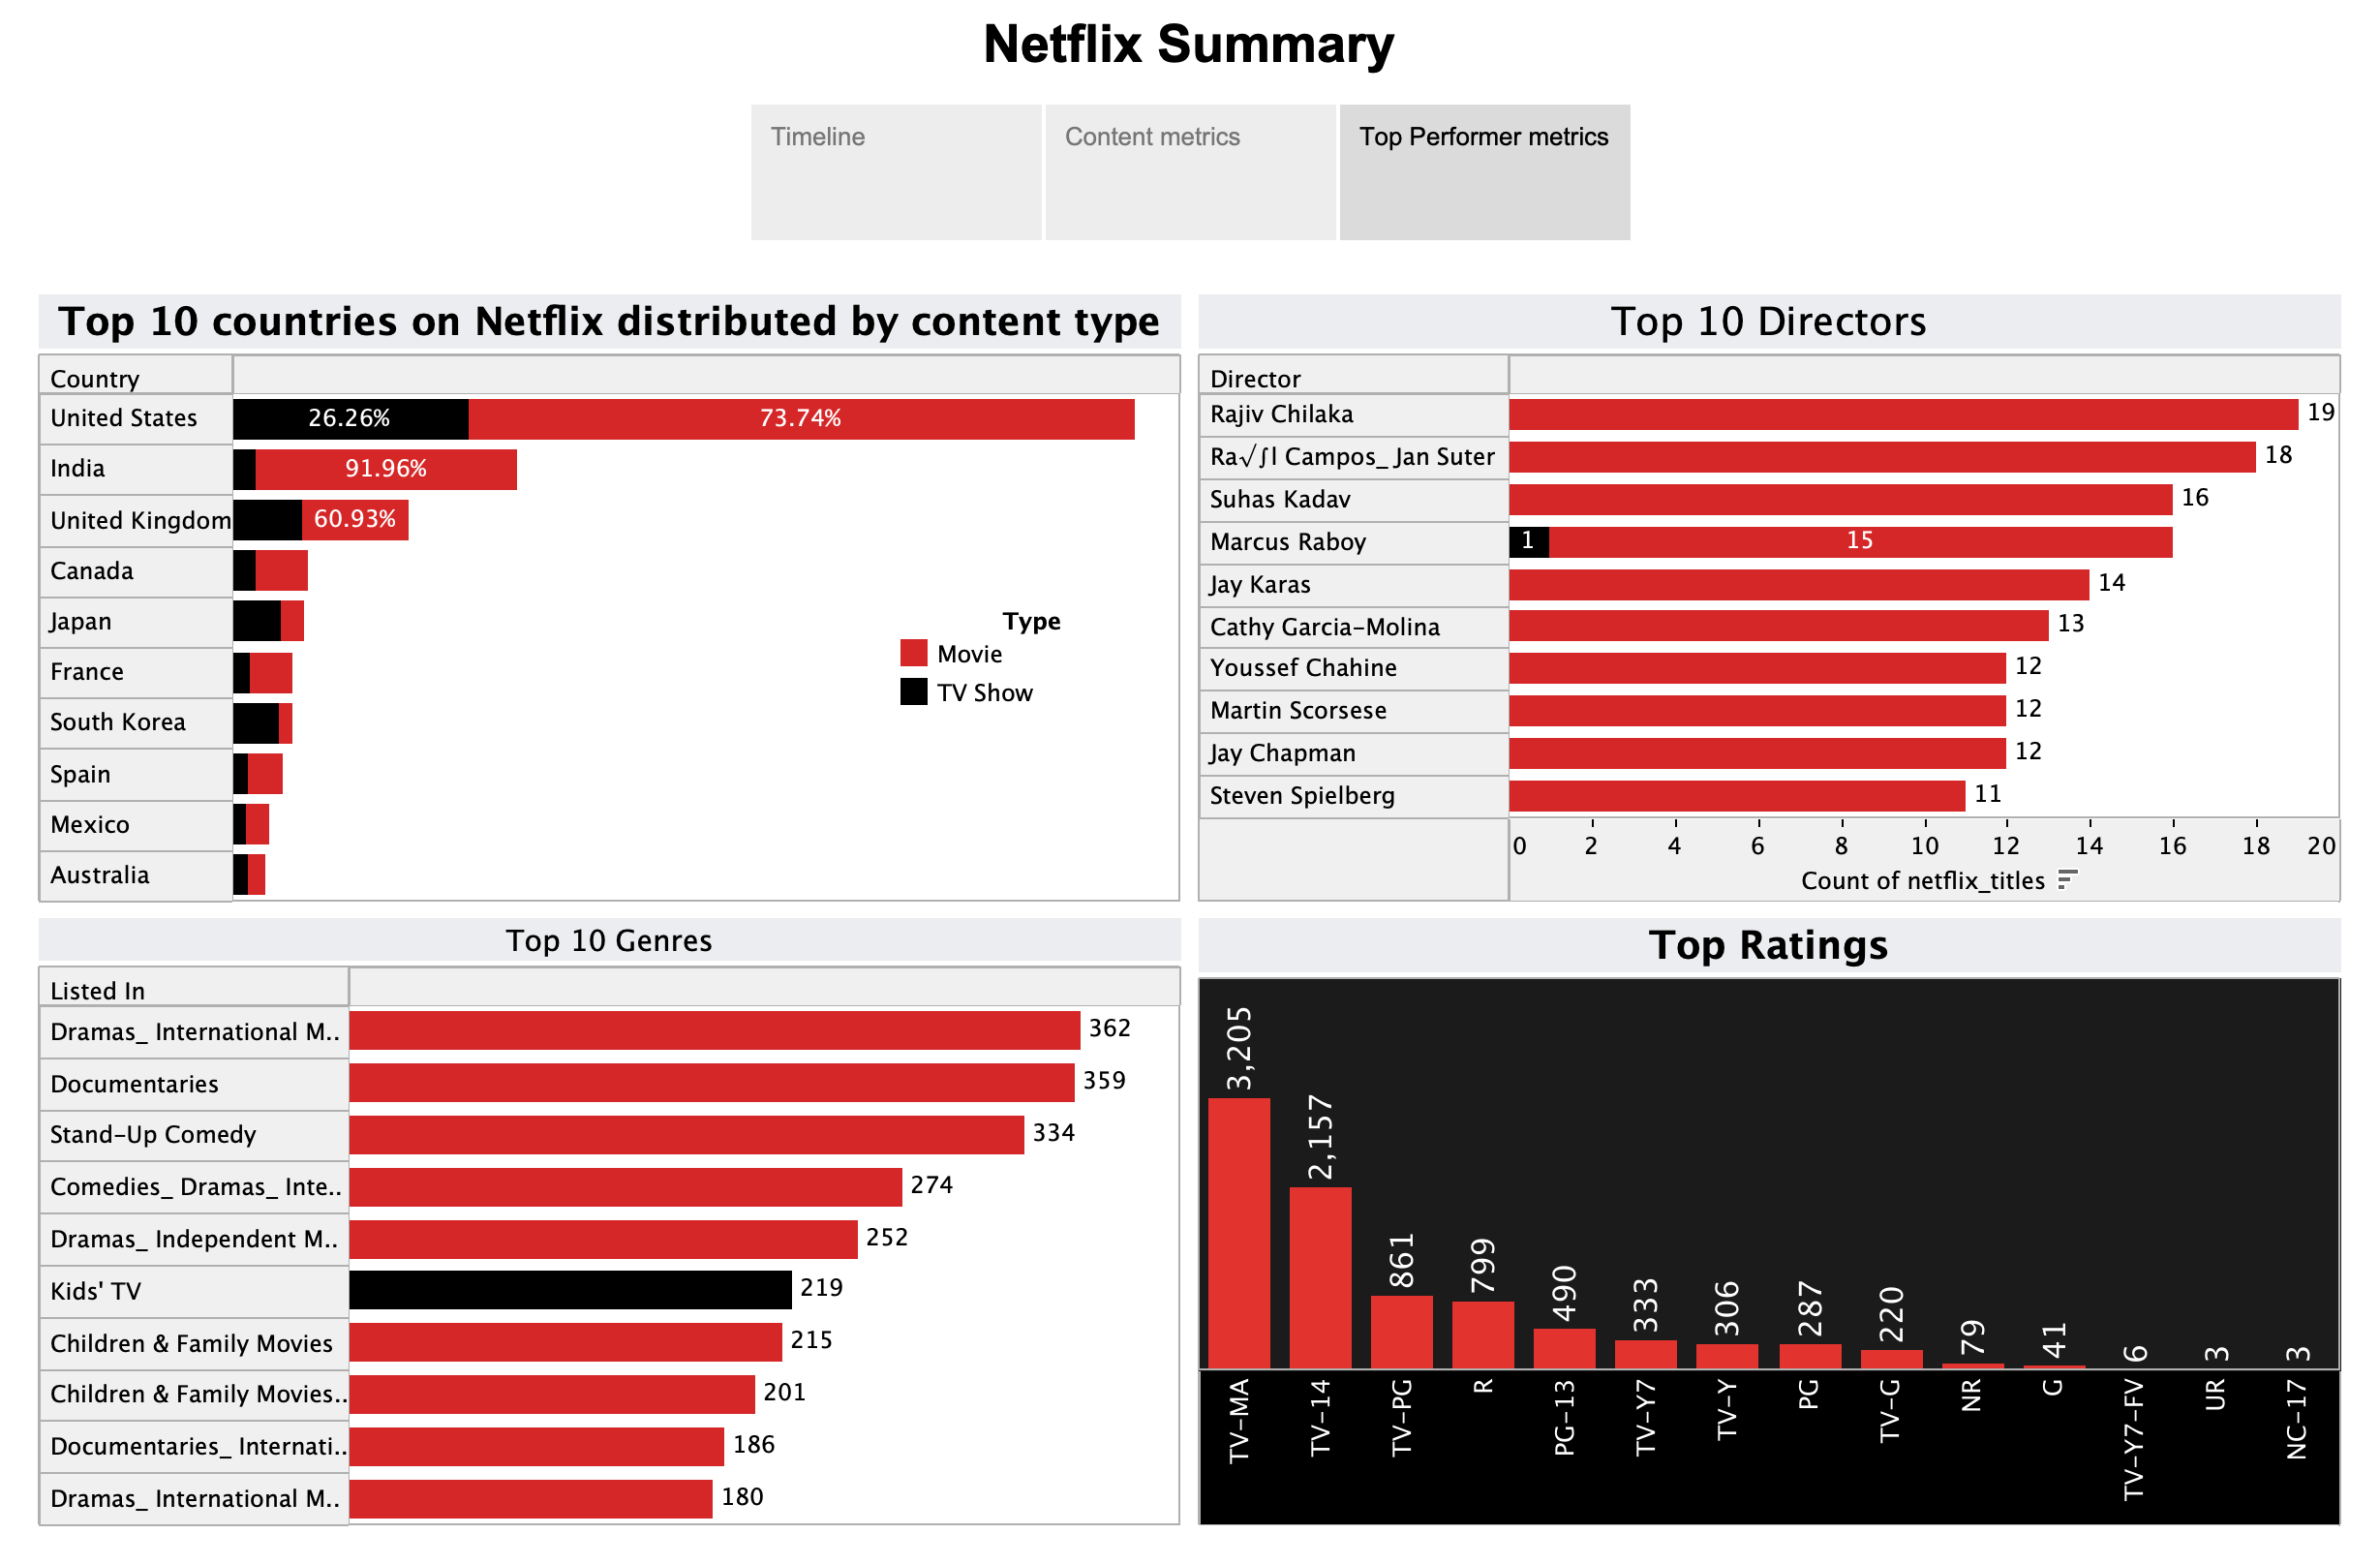

The dashboard page shown, as its layout file describes it:
{"tool":"tableau","page":{"name":"Top Performers","canvas":[1000,1000],"units":"permille","ordinal":2},"visuals":[{"type":"worksheet","box":[0,0,1000,1000]},{"type":"worksheet","param":"horz","box":[6.5,9.9,987,980.2]},{"type":"worksheet","box":[6.5,9.9,987,980.2]},{"type":"worksheet","title":"Top 10 countries on Netflix","mark":"Automatic","rows":["country"],"cols":["netflix_titles_A87C75B05E384DF6A33B8CF7CB959C5D"],"box":[6.5,9.9,493.5,490.1]},{"type":"worksheet","title":"Top 10 Directors","mark":"Bar","rows":["director"],"cols":["netflix_titles_A87C75B05E384DF6A33B8CF7CB959C5D"],"box":[500,9.9,493.5,490.1]},{"type":"worksheet","title":"Top 10 countries on Netflix","mark":"Automatic","rows":["country"],"cols":["netflix_titles_A87C75B05E384DF6A33B8CF7CB959C5D"],"param":"[federated.10y1pro1vnfb4914025zj1oiep6p].[none:type:nk]","box":[374.3,258.7,115.5,111.4]},{"type":"worksheet","title":"Top 10 Genres","mark":"Automatic","rows":["listed_in"],"cols":["netflix_titles_A87C75B05E384DF6A33B8CF7CB959C5D"],"box":[6.5,500,493.5,490.1]},{"type":"worksheet","title":"Top Ratings","mark":"Automatic","rows":["netflix_titles_A87C75B05E384DF6A33B8CF7CB959C5D"],"cols":["rating"],"box":[500,500,493.5,490.1]}]}

Visuals, with their boxes on the dashboard's canvas, which has no fixed pixel size, in thousandths of its width and height (x1, y1, x2, y2). These are canvas units, not pixel positions in the 2380x1565 screenshot, which may show the page scaled, cropped or inside an application window:
worksheet: 0,0,1000,1000
worksheet: 6,10,994,990
worksheet: 6,10,994,990
"Top 10 countries on Netflix" worksheet: 6,10,500,500
"Top 10 Directors" worksheet (Bar marks): 500,10,994,500
"Top 10 countries on Netflix" worksheet: 374,259,490,370
"Top 10 Genres" worksheet: 6,500,500,990
"Top Ratings" worksheet: 500,500,994,990
